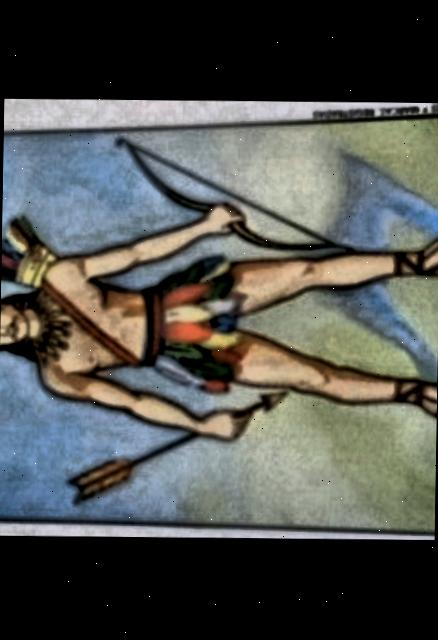El Apache: (0, 103, 438, 526)
